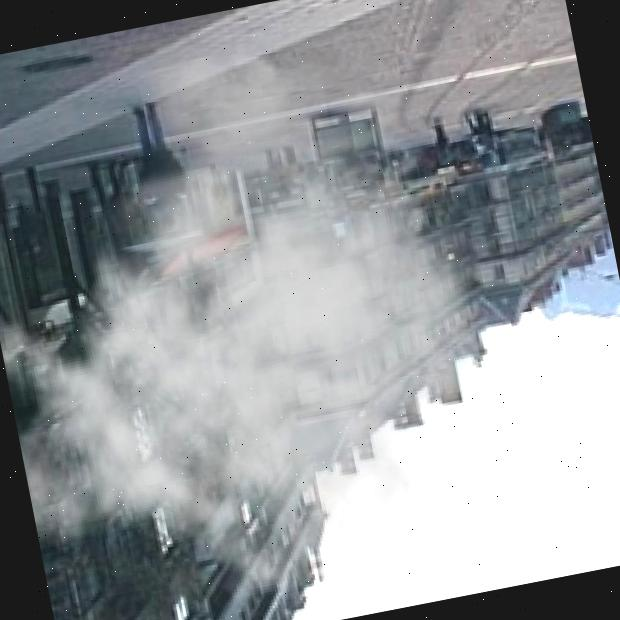smoke: (0, 4, 572, 620)
